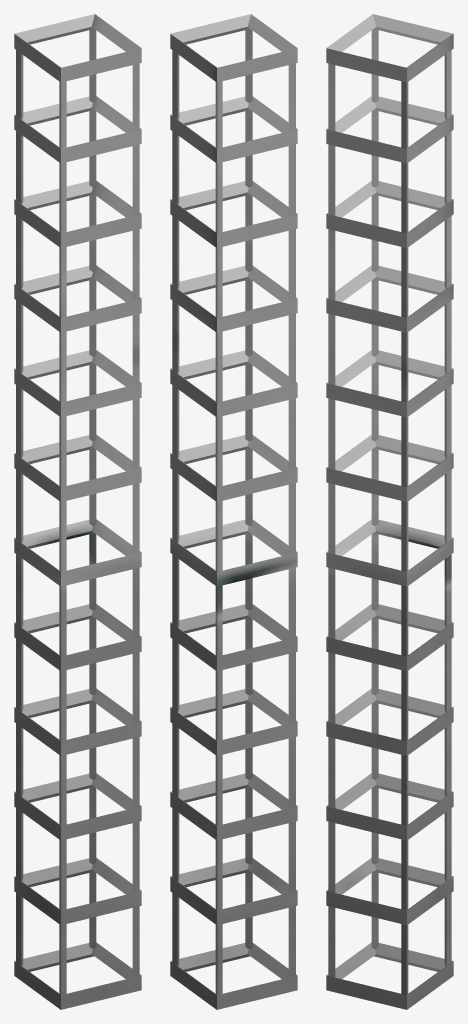
Rendered from strut.DAE.
3 views of the same model, side by side, from view 1: azimuth 30°, elevation 25°; view 2: azimuth 210°, elevation 25°; view 3: azimuth 330°, elevation 25° (orthographic).
Visible parts, largest first — view 1: strut; view 2: strut; view 3: strut.
Boxes of the visible parts, bbox=[...] form: strut: bbox=[14, 14, 141, 1009]; strut: bbox=[170, 14, 297, 1009]; strut: bbox=[326, 14, 453, 1009].
Size of what is drawn, in the model's own units: 0.1379 by 1.54 by 0.1379.
